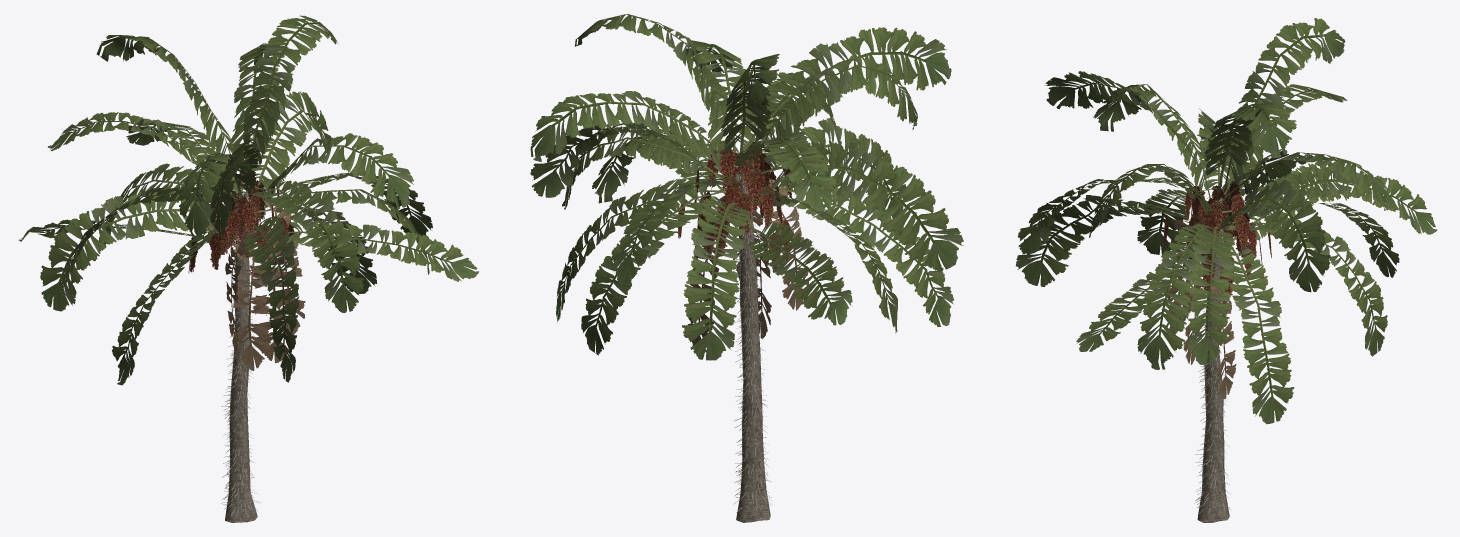
The model's file is Aiphanes_Horrida_Autumn_Adult.glb.
3 renders of one model, left to right at view 1: azimuth 30°, elevation 25°; view 2: azimuth 150°, elevation 25°; view 3: azimuth 270°, elevation 25°, orthographic. The views are drawn at different scales.
Visible parts, largest first — view 1: Aiphanes_Horrida_Autumn_Adult__LOD3; view 2: Aiphanes_Horrida_Autumn_Adult__LOD3; view 3: Aiphanes_Horrida_Autumn_Adult__LOD3.
Boxes of the visible parts, left/top/right/bottom form: Aiphanes_Horrida_Autumn_Adult__LOD3: left=18, top=15, right=478, bottom=522; Aiphanes_Horrida_Autumn_Adult__LOD3: left=530, top=14, right=963, bottom=522; Aiphanes_Horrida_Autumn_Adult__LOD3: left=1016, top=18, right=1437, bottom=522.
Size of the model in its own units: 8.26 by 9.56 by 8.23.
3 materials, 3 textured.
